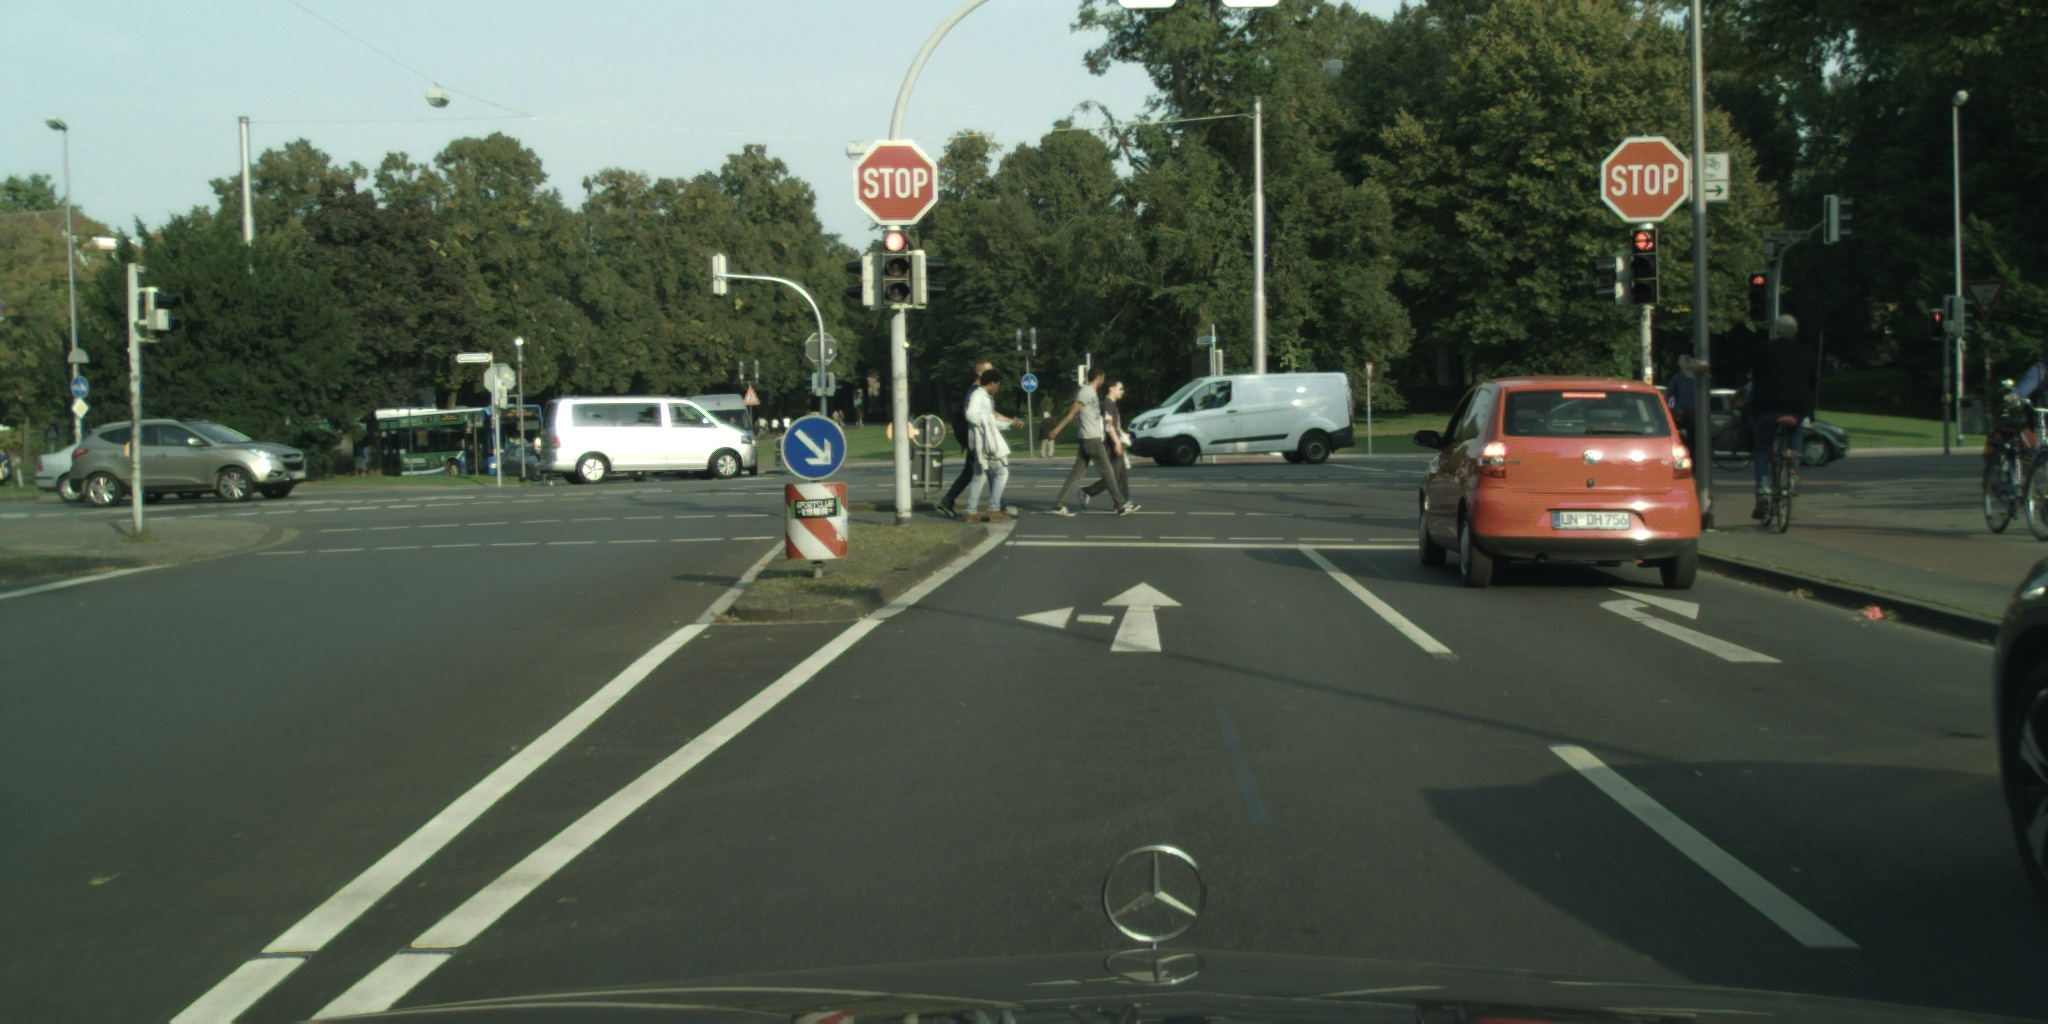bicycle: (1980, 376, 2048, 540), (1708, 404, 1825, 473), (1760, 413, 1799, 534)
bus: (279, 404, 547, 484)
car: (1413, 374, 1700, 591), (1120, 371, 1357, 468), (68, 417, 308, 506), (1991, 550, 2048, 904), (536, 394, 756, 486), (1657, 383, 1851, 467), (674, 393, 758, 481), (34, 430, 115, 504), (494, 442, 566, 480)
person: (1045, 367, 1142, 518), (934, 358, 1010, 520), (962, 368, 1024, 524), (1075, 377, 1132, 516), (2004, 350, 2048, 415), (530, 434, 554, 488), (1039, 408, 1057, 459), (359, 439, 375, 477)
rider: (1742, 315, 1817, 519), (1662, 353, 1705, 476), (1730, 357, 1758, 413)
